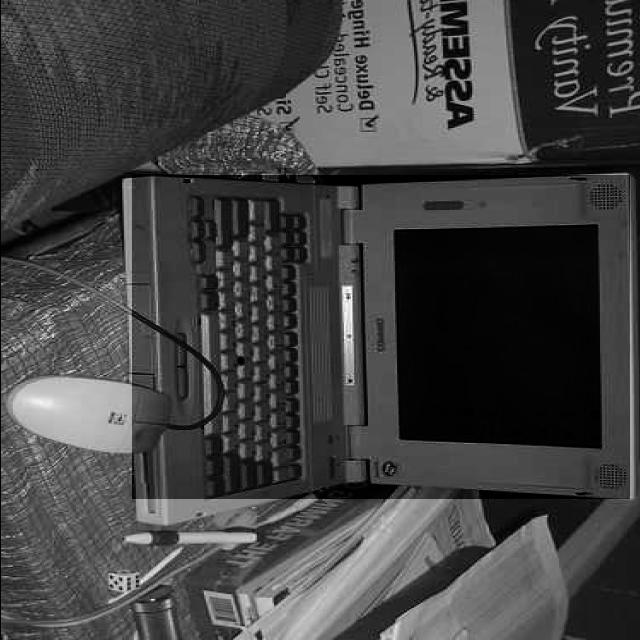-keyboard-: (132, 175, 630, 499)
